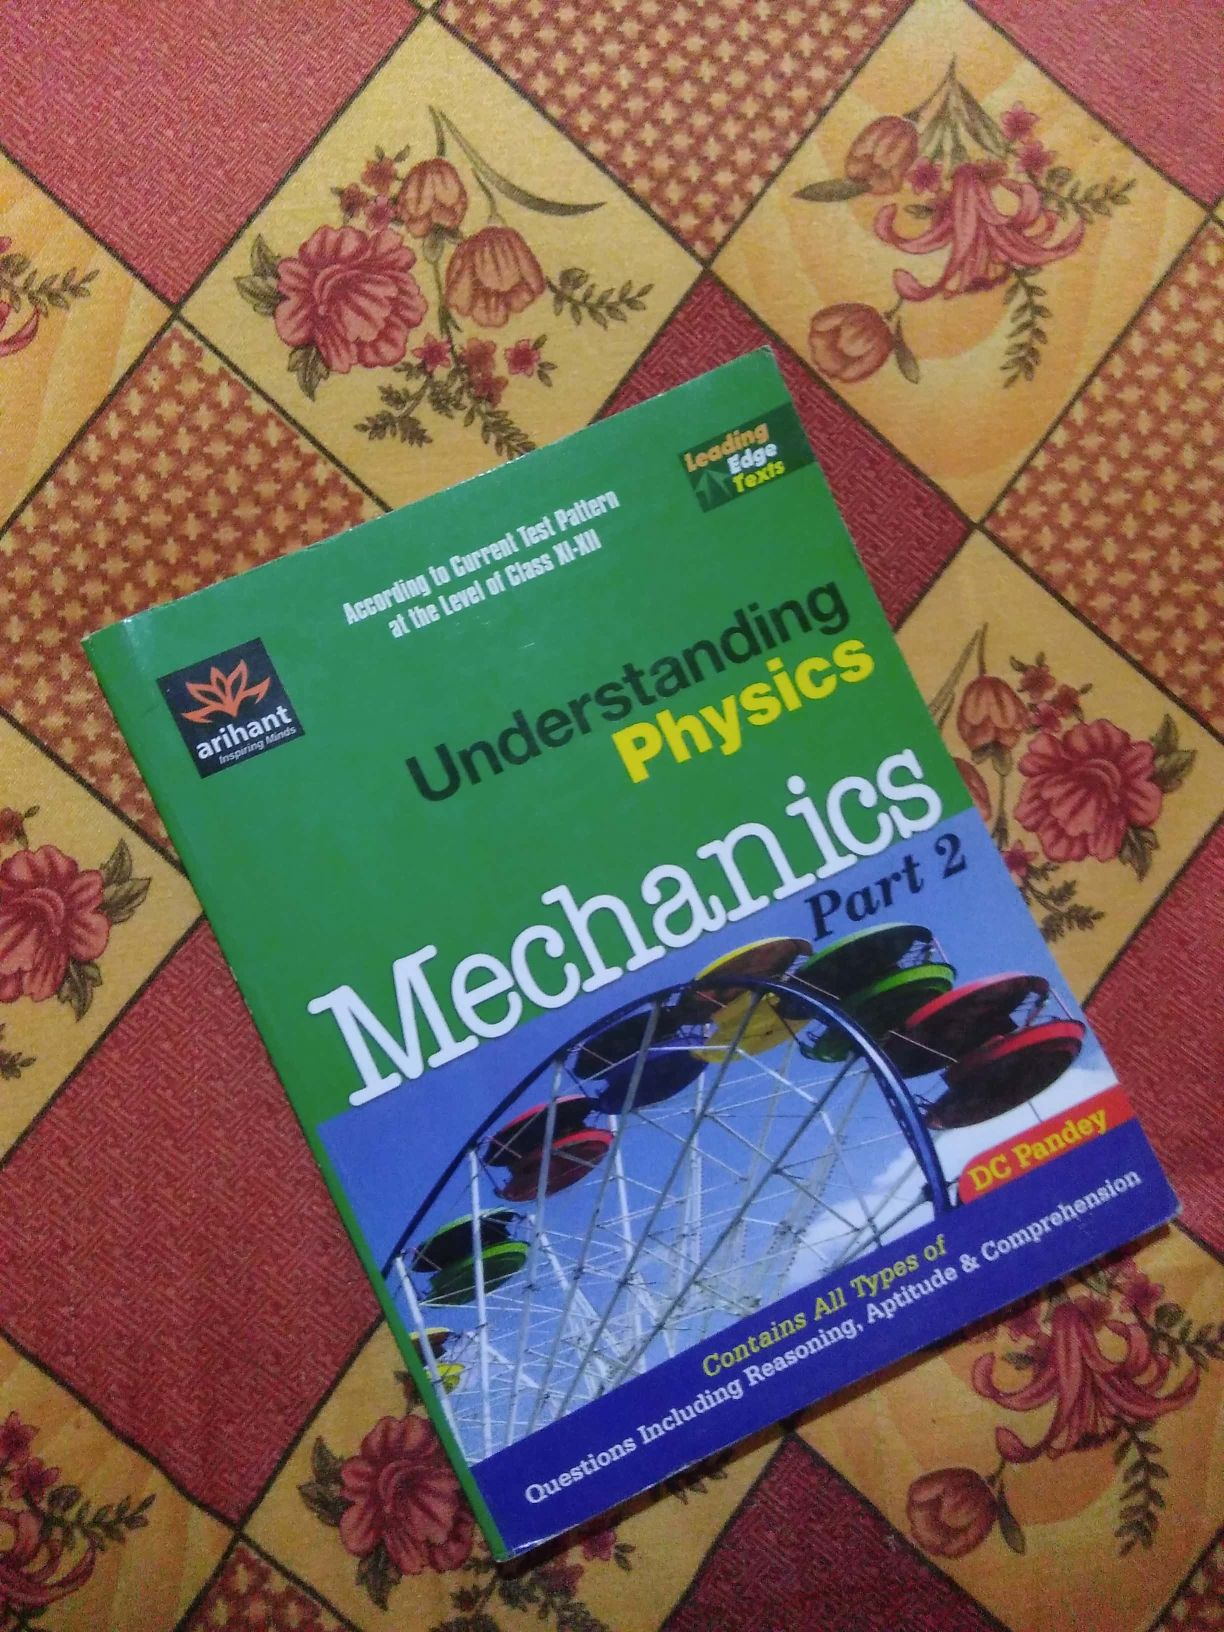mechanics: (93, 409, 1183, 1527)
